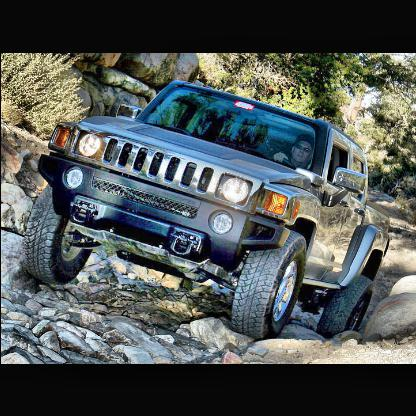HUMMER H3T Crew Cab 2010: (21, 82, 389, 339)
